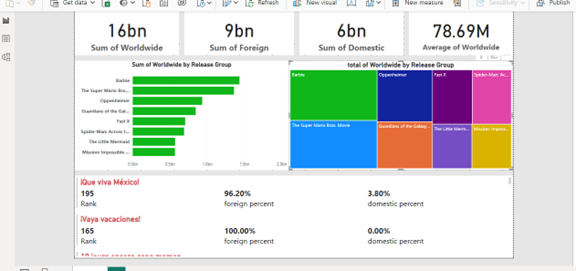

The dashboard page shown, as its layout file describes it:
{"tool":"powerbi","page":{"name":"Page 1","canvas":[1280,720],"ordinal":0},"visuals":[{"type":"treemap","fields":{"Group":["Table 0.Release Group"],"Values":["Sum(Table 0.Worldwide)"]},"box":[624,144,656,320],"z":0},{"type":"card","fields":{"Values":["Sum(Table 0.Worldwide)"]},"box":[0,0,304,128],"z":1000},{"type":"card","fields":{"Values":["Sum(Table 0.Domestic)"]},"box":[656,0,304,128],"z":2000},{"type":"card","fields":{"Values":["Sum(Table 0.Foreign)"]},"box":[320,0,320,128],"z":3000},{"type":"clusteredBarChart","fields":{"Category":["Table 0.Release Group"],"Y":["Sum(Table 0.Worldwide)"]},"box":[0,144,624,320],"z":4000},{"type":"card","fields":{"Values":["Avg(Table 0.Worldwide)"]},"box":[976,0,304,128],"z":5000},{"type":"multiRowCard","fields":{"Values":["Table 0.Release Group","Sum(Table 0.Rank)","Sum(Table 0.foreign percent)","Sum(Table 0.domestic percent)"]},"box":[0,480,1280,240],"z":6000}]}

Visuals, with their boxes on the page's 1280x720 design canvas (x1, y1, x2, y2). These are canvas units, not pixel positions in the 576x271 screenshot, which may show the page scaled, cropped or inside an application window:
treemap - Table 0.Release Group x Sum(Table 0.Worldwide): [left=624, top=144, right=1280, bottom=464]
card - Sum(Table 0.Worldwide): [left=0, top=0, right=304, bottom=128]
card - Sum(Table 0.Domestic): [left=656, top=0, right=960, bottom=128]
card - Sum(Table 0.Foreign): [left=320, top=0, right=640, bottom=128]
clusteredBarChart - Table 0.Release Group x Sum(Table 0.Worldwide): [left=0, top=144, right=624, bottom=464]
card - Avg(Table 0.Worldwide): [left=976, top=0, right=1280, bottom=128]
multiRowCard - Table 0.Release Group x Sum(Table 0.Rank): [left=0, top=480, right=1280, bottom=720]
